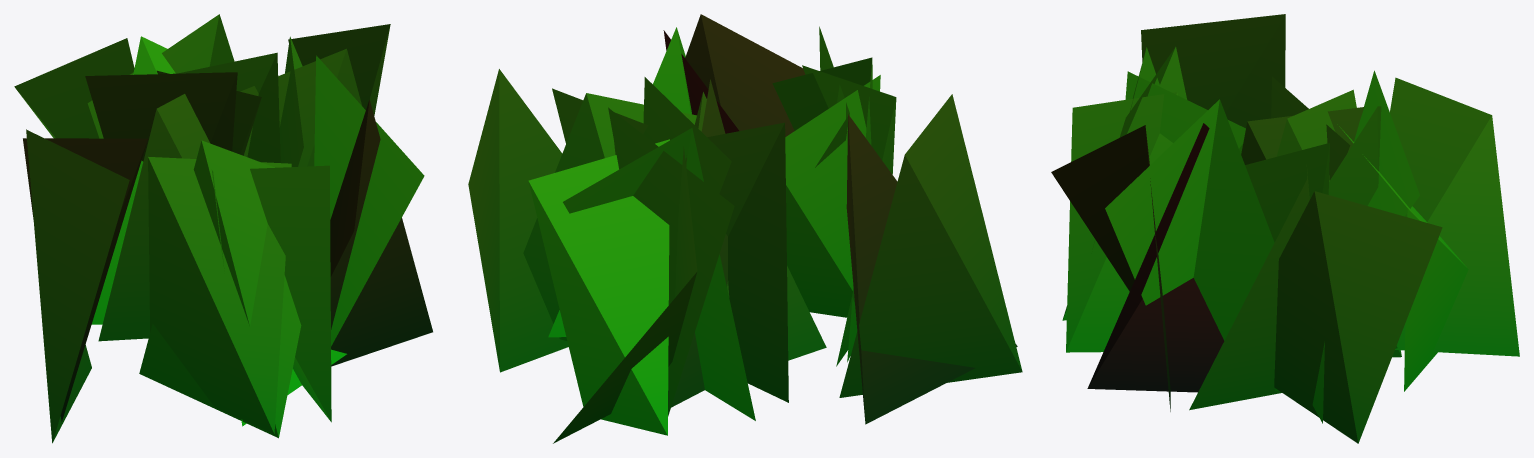
Rendered from Grass_4_Mesh.fbx.
3 views of the same model, side by side, from view 1: azimuth 30°, elevation 25°; view 2: azimuth 150°, elevation 25°; view 3: azimuth 270°, elevation 25° (orthographic). The views are drawn at different scales.
Visible parts, largest first — view 1: Grass_4_LOD0; view 2: Grass_4_LOD0; view 3: Grass_4_LOD0.
Part boxes in pixels (<box>): Grass_4_LOD0: <box>14,14,432,443</box>; Grass_4_LOD0: <box>468,14,1022,443</box>; Grass_4_LOD0: <box>1051,14,1519,443</box>.
Bounding box in the file's own units: 104 × 72.9 × 103.
